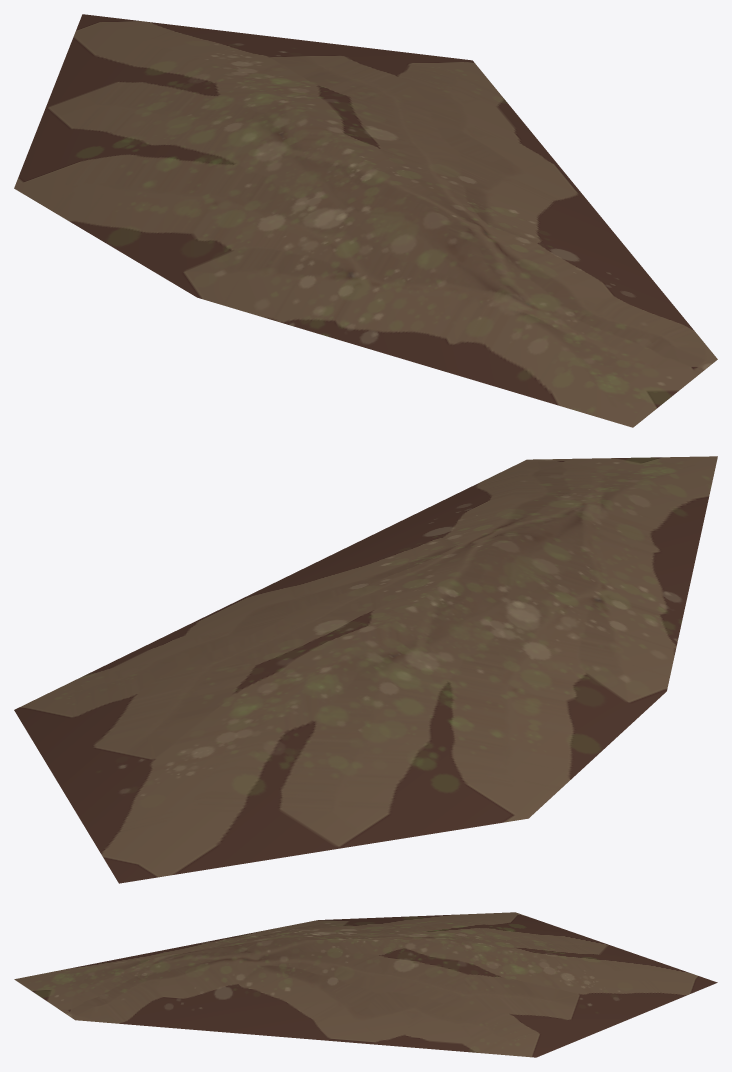
Rendered from MSH_fwOF_WoodDebris_Single_02.fbx.
3 views of the same model, one above another, from view 1: azimuth 30°, elevation 25°; view 2: azimuth 150°, elevation 25°; view 3: azimuth 270°, elevation 25° (orthographic). The views are drawn at different scales.
Parts seen in each view (by area): view 1: MSH_fwOF_WoodDebris_Single_02; view 2: MSH_fwOF_WoodDebris_Single_02; view 3: MSH_fwOF_WoodDebris_Single_02.
Boxes of the visible parts, box(x1,y1,x2,y2) form: MSH_fwOF_WoodDebris_Single_02: box(14, 14, 717, 427); MSH_fwOF_WoodDebris_Single_02: box(14, 456, 717, 883); MSH_fwOF_WoodDebris_Single_02: box(14, 912, 717, 1057).
Bounding box in the file's own units: 0.316 × 0.0413 × 0.6466.
